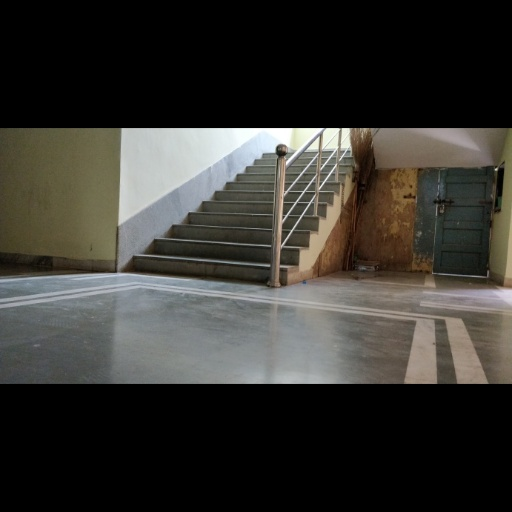Stairs: (133, 154, 276, 283), (281, 217, 318, 281)
